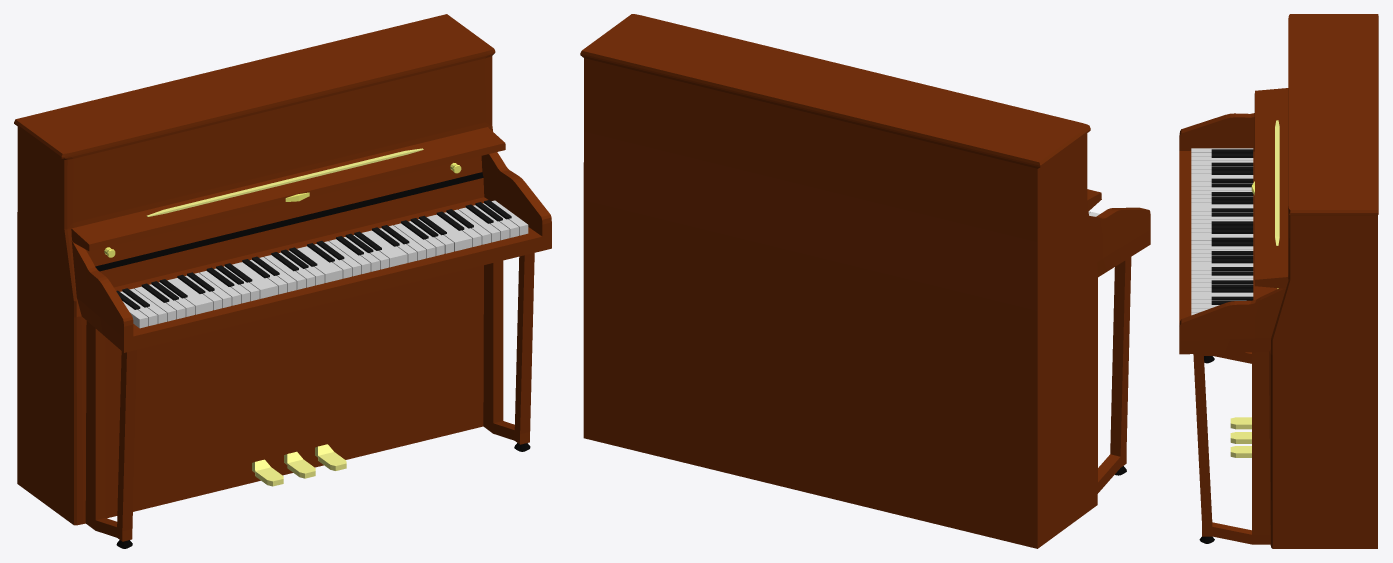
Rendered from Piano9.fbx.
The picture shows the model from 3 angles, left to right: view 1: azimuth 30°, elevation 25°; view 2: azimuth 150°, elevation 25°; view 3: azimuth 270°, elevation 25°; orthographic projection. The views are drawn at different scales.
Visible parts, largest first — view 1: Cube.020; view 2: Cube.020; view 3: Cube.020.
Boxes of the visible parts, x1,y1,x2,y2 form: Cube.020: (14,14,551,548); Cube.020: (580,14,1150,548); Cube.020: (1179,14,1378,548).
Size of the model in its own units: 152 by 122 by 64.93.
